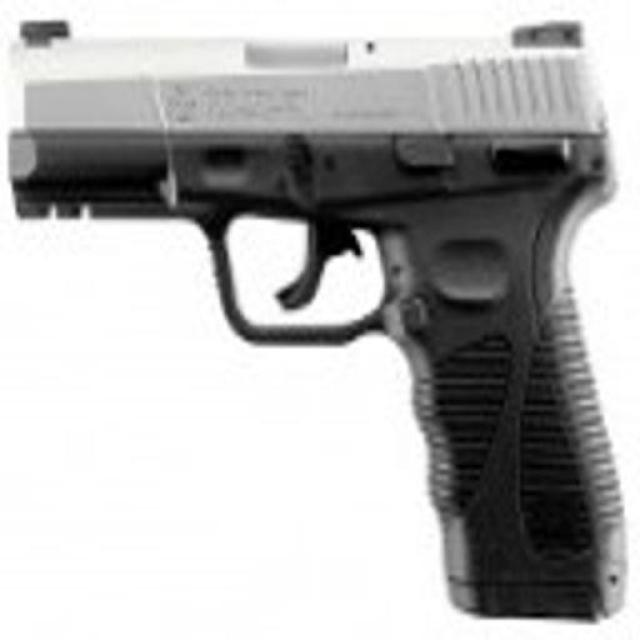pistol: (7, 15, 627, 624)
